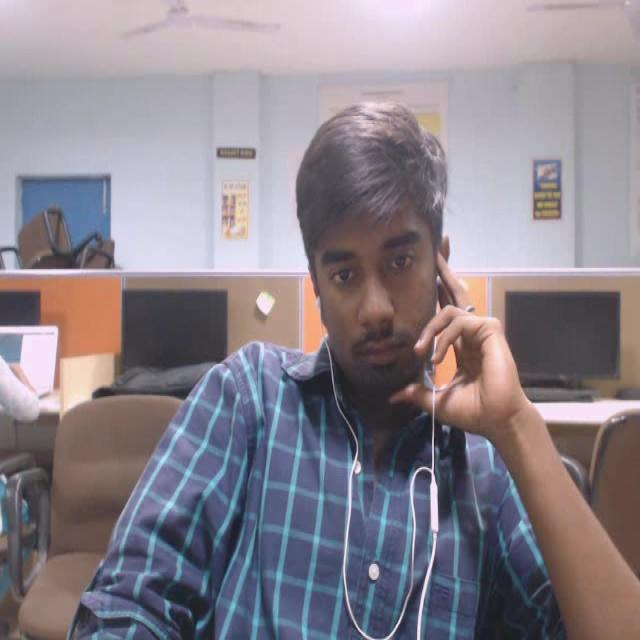Engaged: (299, 92, 475, 428)
